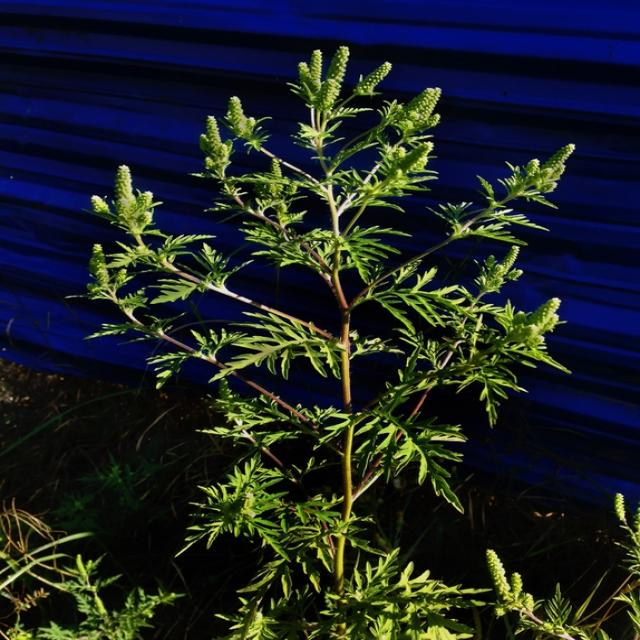ambrosia: (194, 33, 435, 279), (477, 121, 592, 397), (36, 153, 163, 335)
